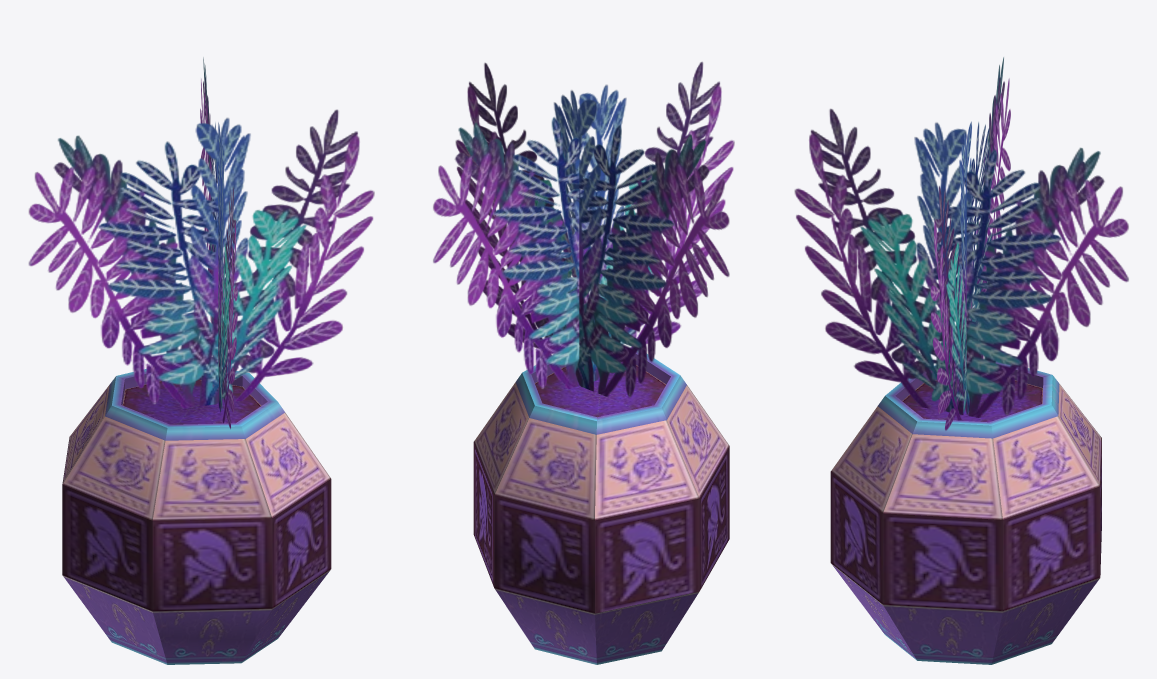
File: pot-01-art-001-vapor.glb
3 views of the same model, side by side, from view 1: azimuth 30°, elevation 25°; view 2: azimuth 150°, elevation 25°; view 3: azimuth 270°, elevation 25° (orthographic). The views are drawn at different scales.
Visible parts, largest first — view 1: Pot_01_Art.001_Vapor; view 2: Pot_01_Art.001_Vapor; view 3: Pot_01_Art.001_Vapor.
Part boxes in pixels (bbox=[...]): Pot_01_Art.001_Vapor: bbox=[28, 57, 374, 664]; Pot_01_Art.001_Vapor: bbox=[433, 62, 734, 664]; Pot_01_Art.001_Vapor: bbox=[794, 57, 1128, 664].
Bounding box in the file's own units: 1.59 × 2.43 × 1.48.
2 materials, 2 textured.
